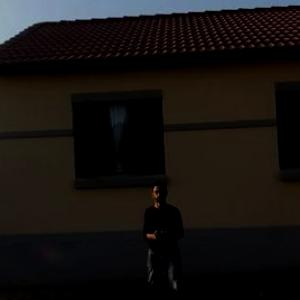follow: (139, 173, 191, 299)
